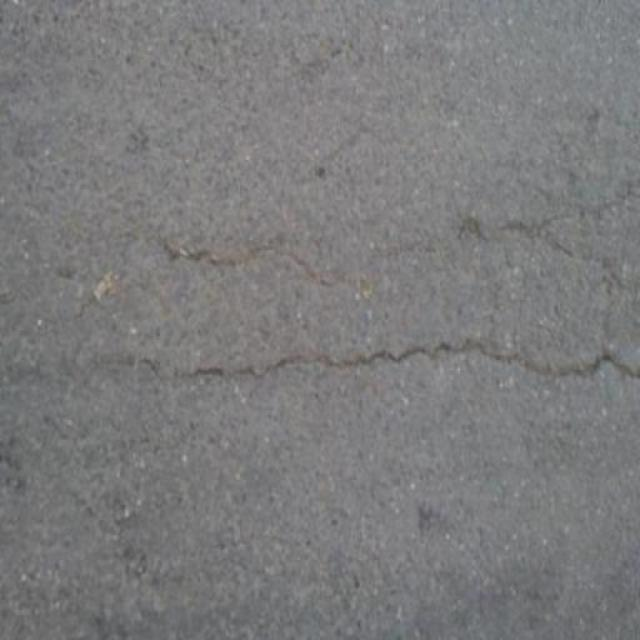Crack: (175, 322, 640, 392)
